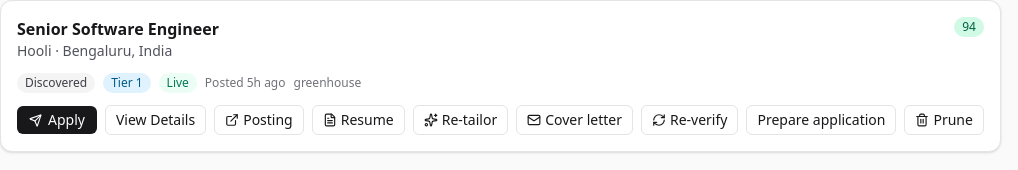
Test: JobCard Actions › marks job as Closed when Re-verify discovers link is dead
The width and height of the screenshot is (1018, 170).
Click the button "Re-verify".
click(690, 120)  # box [641, 105, 738, 135]
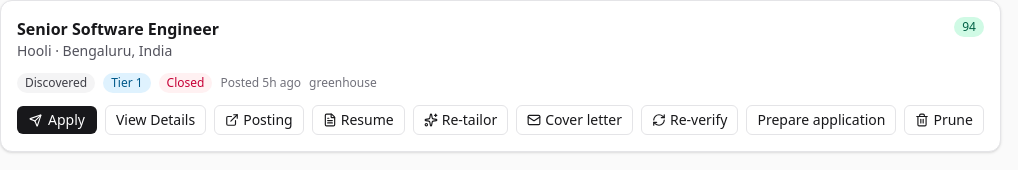
Expected: the text "Closed" is shown, [159, 73, 212, 93]
